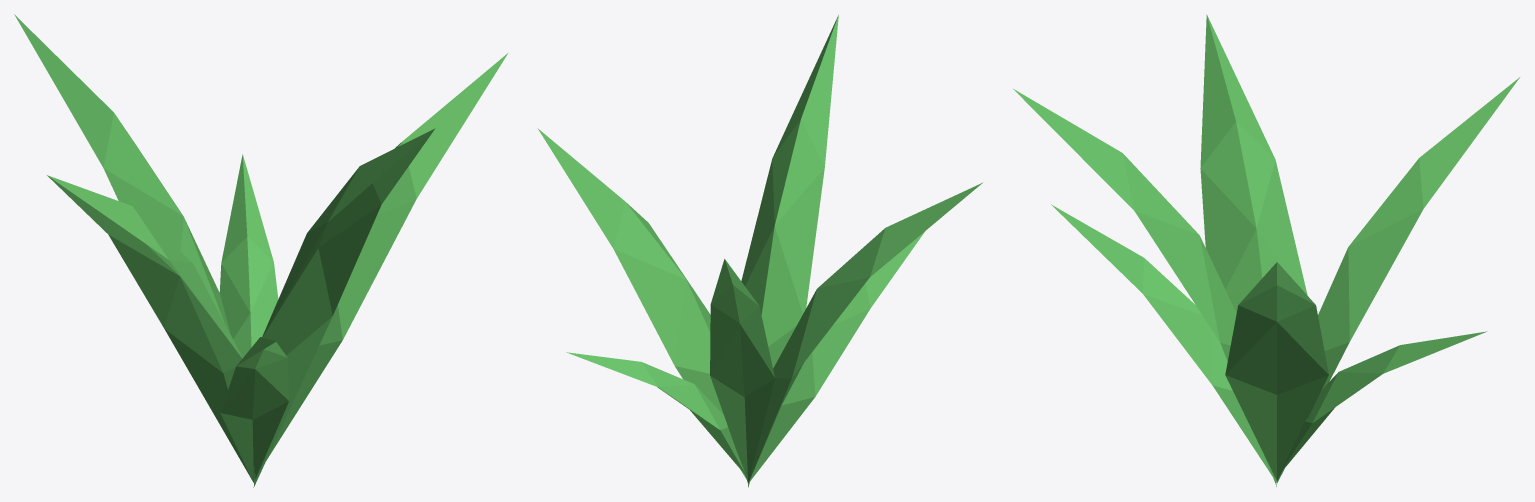
Rendered from Hilly_Prop_Grass_Clump_4.glb.
3 views of the same model, side by side, from view 1: azimuth 30°, elevation 25°; view 2: azimuth 150°, elevation 25°; view 3: azimuth 270°, elevation 25° (orthographic). The views are drawn at different scales.
Visible parts, largest first — view 1: Hilly_Prop_Grass_Clump_4; view 2: Hilly_Prop_Grass_Clump_4; view 3: Hilly_Prop_Grass_Clump_4.
Boxes of the visible parts, box(x1,y1,x2,y2) form: Hilly_Prop_Grass_Clump_4: box(14, 14, 508, 487); Hilly_Prop_Grass_Clump_4: box(537, 14, 982, 487); Hilly_Prop_Grass_Clump_4: box(1013, 14, 1519, 486).
Bounding box in the file's own units: 0.5868 × 0.512 × 0.5676.
